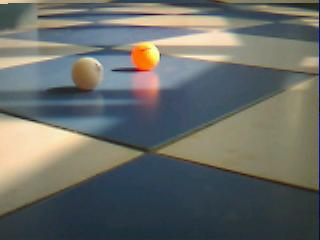oball: (131, 43, 160, 69)
